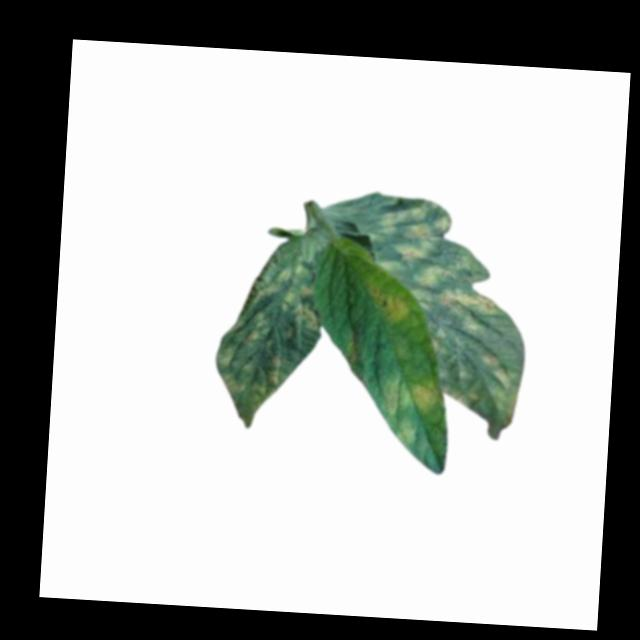Leaf_Mold: (366, 195, 530, 419), (211, 240, 328, 436), (365, 279, 413, 333), (381, 373, 437, 416), (395, 417, 419, 452)
